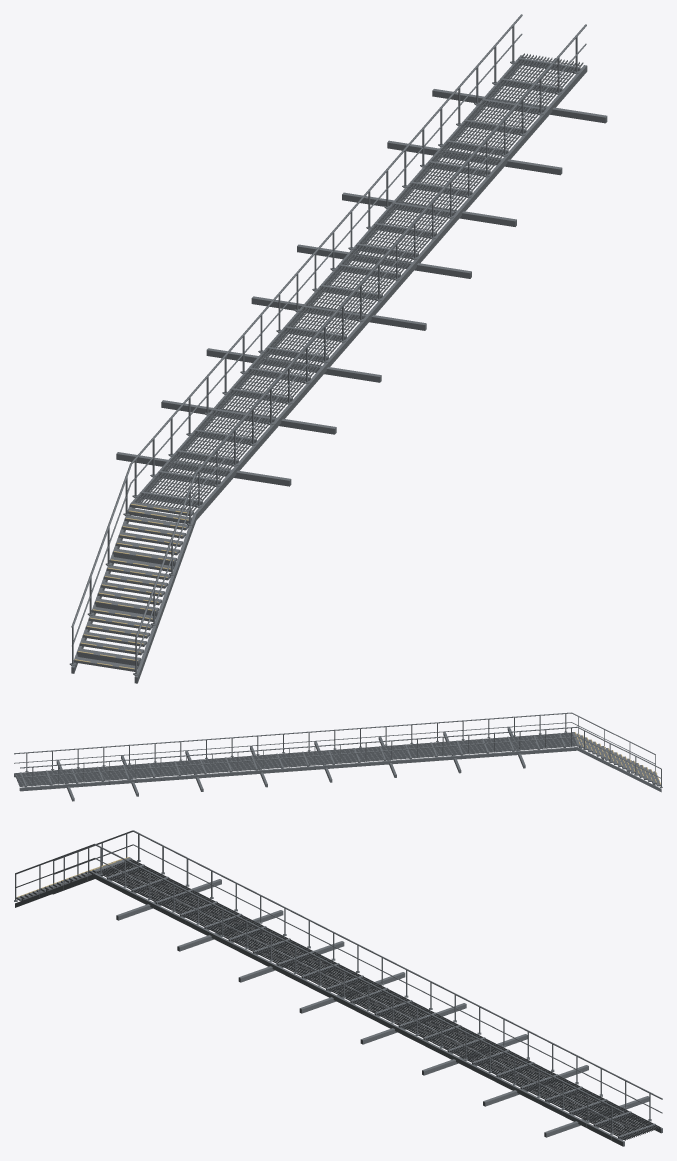
The model's file is BN_T11_UpperWalk.fbx.
The picture shows the model from 3 angles, top to bottom: view 1: azimuth 30°, elevation 25°; view 2: azimuth 150°, elevation 25°; view 3: azimuth 270°, elevation 25°; orthographic projection. The views are drawn at different scales.
Visible parts, largest first — view 1: BN_T11_UpperWalk; view 2: BN_T11_UpperWalk; view 3: BN_T11_UpperWalk.
Part boxes in pixels (x1,y1,x2,y2): BN_T11_UpperWalk: (69,14,607,683); BN_T11_UpperWalk: (14,712,662,801); BN_T11_UpperWalk: (14,830,662,1146).
Size of the model in its own units: 2401 by 362 by 2039.
